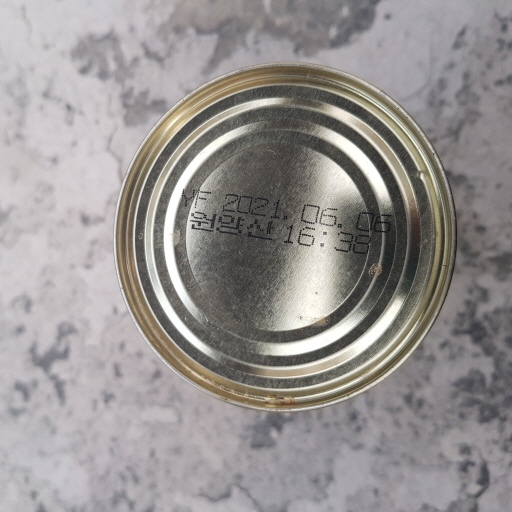Metal_1: (116, 63, 457, 416)
